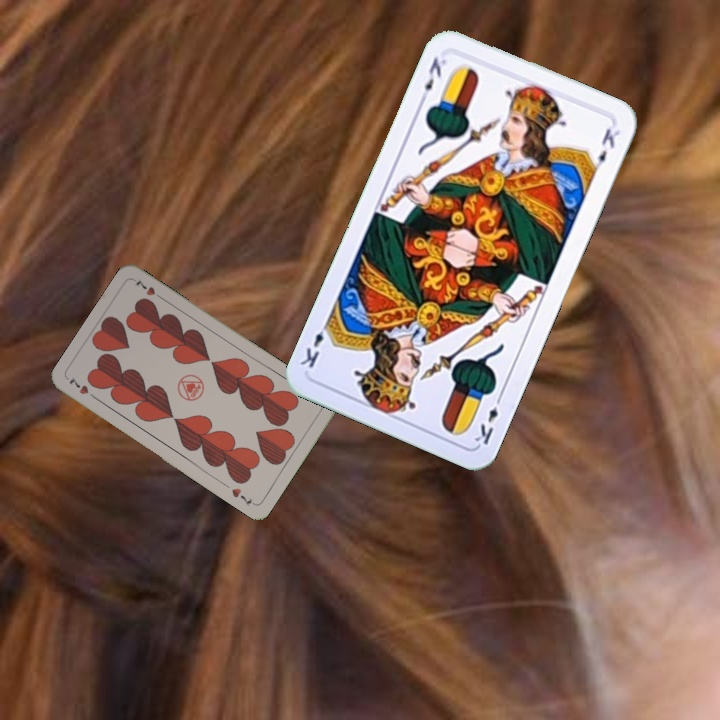EK: (470, 390, 506, 448), (416, 53, 449, 106)
H7: (64, 373, 100, 402)
